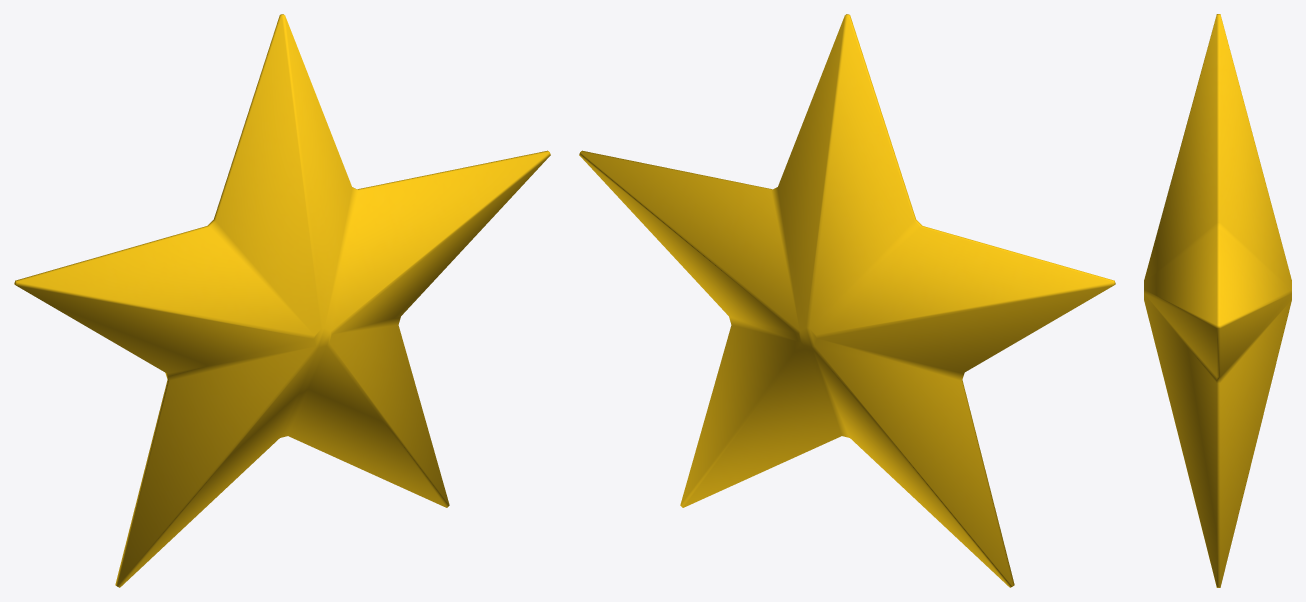
File: star.obj
3 renders of one model, left to right at view 1: azimuth 30°, elevation 25°; view 2: azimuth 150°, elevation 25°; view 3: azimuth 270°, elevation 25°, orthographic. The views are drawn at different scales.
Parts seen in each view (by area): view 1: Cylinder01; view 2: Cylinder01; view 3: Cylinder01.
Boxes of the visible parts, <box> form: Cylinder01: <box>14,14,550,587</box>; Cylinder01: <box>579,14,1115,587</box>; Cylinder01: <box>1144,14,1291,587</box>.
Bounding box in the file's own units: 150 × 142 × 38.27.
1 material, 1 textured.
